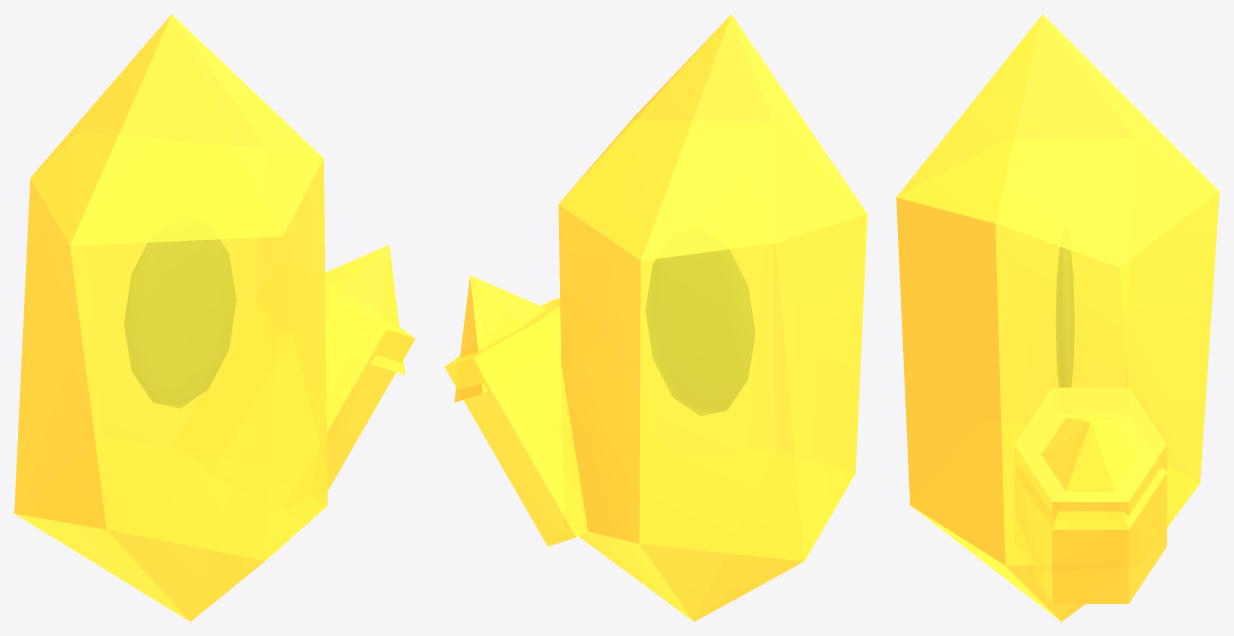
The model's file is col_amber_shard.glb.
3 renders of one model, left to right at view 1: azimuth 30°, elevation 25°; view 2: azimuth 150°, elevation 25°; view 3: azimuth 270°, elevation 25°, orthographic. The views are drawn at different scales.
Visible parts, largest first — view 1: col_amber_shard; view 2: col_amber_shard; view 3: col_amber_shard.
Boxes of the visible parts, x1,y1,x2,y2 form: col_amber_shard: (14, 14, 415, 621); col_amber_shard: (444, 14, 867, 621); col_amber_shard: (896, 14, 1219, 621).
Size of the model in its own units: 0.3108 by 0.5 by 0.2465.
